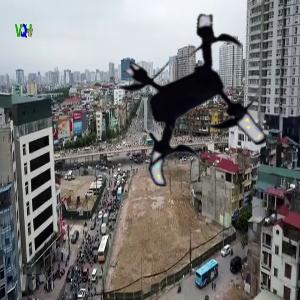drone: (108, 18, 290, 200)
